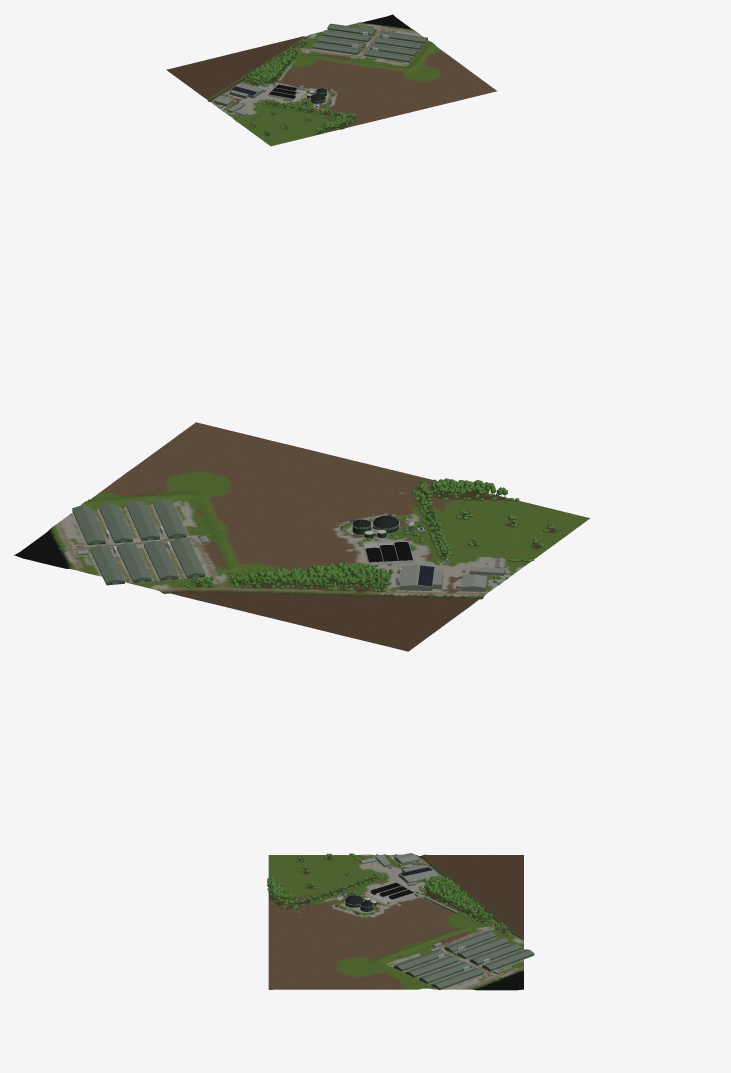
Rendered from wildmore_site_web.glb.
The picture shows the model from 3 angles, top to bottom: view 1: azimuth 30°, elevation 25°; view 2: azimuth 150°, elevation 25°; view 3: azimuth 270°, elevation 25°; orthographic projection. The views are drawn at different scales.
Visible parts, largest first — view 1: web_terrain; view 2: web_terrain; view 3: web_terrain.
Part boxes in pixels (left/top/right/bottom): web_terrain: left=166, top=14, right=496, bottom=146; web_terrain: left=14, top=422, right=590, bottom=651; web_terrain: left=268, top=854, right=523, bottom=990.
Size of the model in its own units: 937 by 20.62 by 1124.
